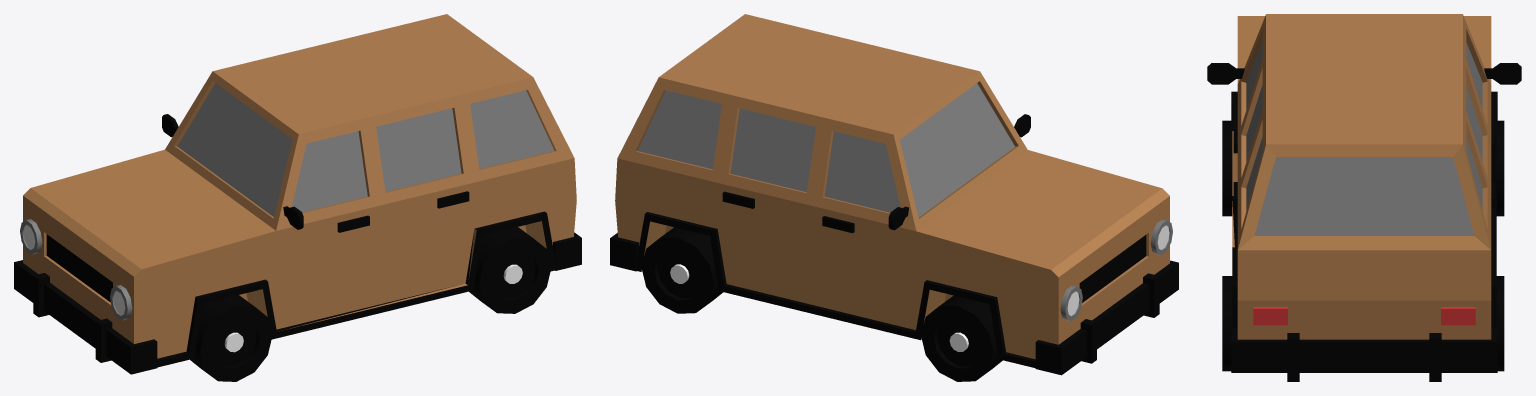
File: car animation 7.fbx
3 renders of one model, left to right at view 1: azimuth 30°, elevation 25°; view 2: azimuth 150°, elevation 25°; view 3: azimuth 270°, elevation 25°, orthographic. The views are drawn at different scales.
Parts seen in each view (by area): view 1: car body, Wheel; view 2: car body, Wheel; view 3: car body, Wheel.
Boxes of the visible parts, x1,y1,x2,y2 form: car body: (14, 14, 581, 374); Wheel: (190, 227, 551, 381); car body: (610, 14, 1178, 375); Wheel: (641, 227, 1002, 381); car body: (1207, 14, 1521, 381); Wheel: (1222, 120, 1504, 371).
Size of the model in its own units: 1220 by 539 by 631.
